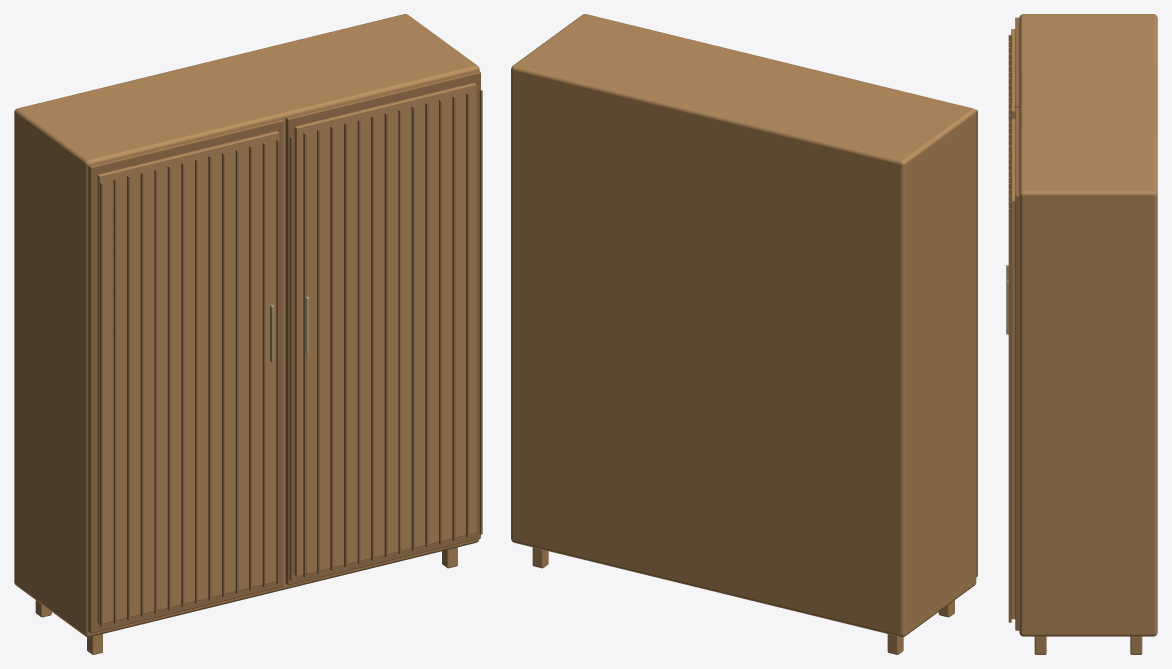
3 renders of one model, left to right at view 1: azimuth 30°, elevation 25°; view 2: azimuth 150°, elevation 25°; view 3: azimuth 270°, elevation 25°, orthographic. The views are drawn at different scales.
Visible parts, largest first — view 1: Oak door panel (×2), Carcass, Fine vertical oak fluting (×29), Recessed door (×2); view 2: Carcass, Recessed door; view 3: Carcass, Recessed door (×2), Oak door panel (×2), Fine vertical oak fluting, Tapered leg (×2).
Part boxes in pixels (x1,y1,x2,y2): Oak door panel (×2): (97, 83, 476, 624); Carcass: (14, 14, 479, 637); Fine vertical oak fluting (×29): (100, 89, 482, 627); Recessed door (×2): (88, 70, 480, 633); Carcass: (511, 14, 976, 637); Recessed door: (975, 109, 977, 577); Carcass: (1019, 14, 1157, 636); Recessed door (×2): (1015, 17, 1019, 630); Oak door panel (×2): (1011, 29, 1015, 619); Fine vertical oak fluting: (1008, 208, 1011, 622); Tapered leg (×2): (1034, 636, 1142, 654).
Size of the model in its own units: 1.6 by 1.95 by 0.569.
